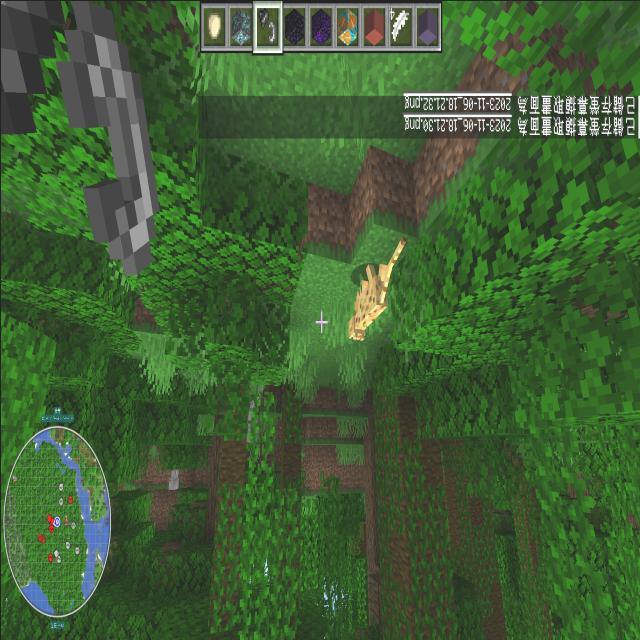Ocelot: (343, 230, 411, 352)
Skeleton: (245, 376, 263, 450)
